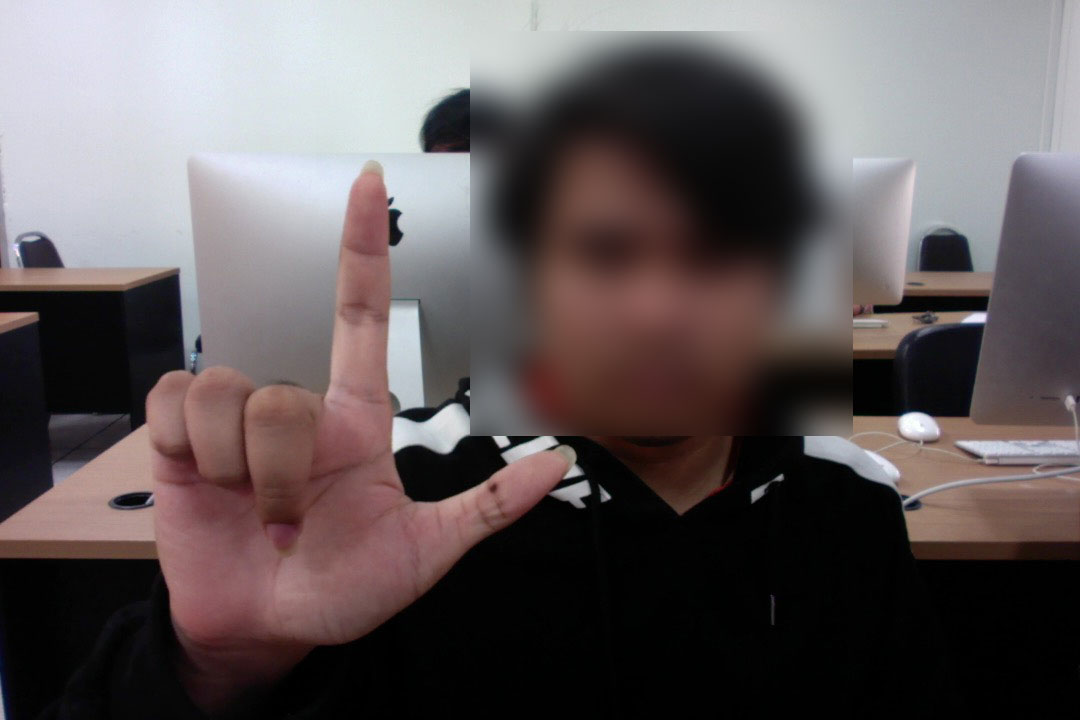lor: (107, 158, 584, 677)
